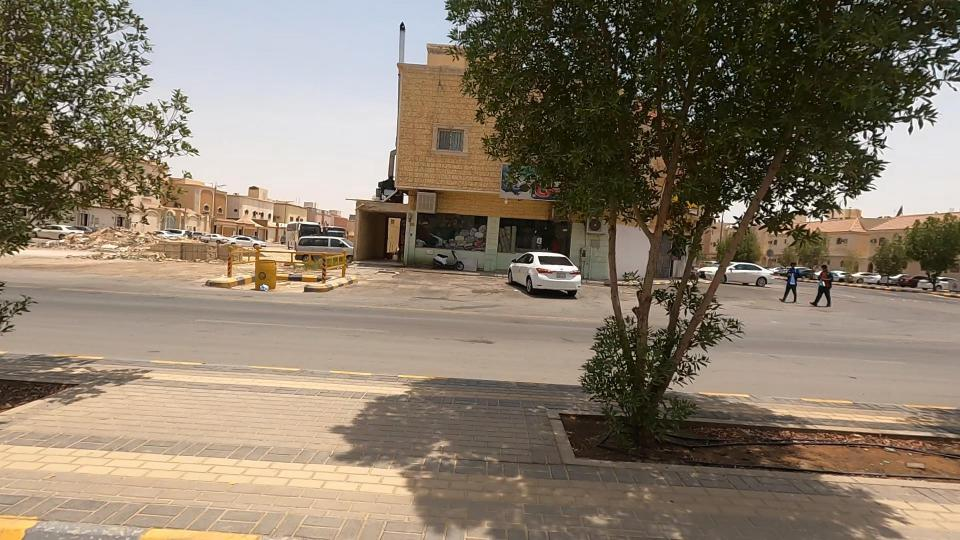GARBAGE: (236, 268, 297, 310)
SAND_ON_ROAD: (67, 202, 187, 266)
